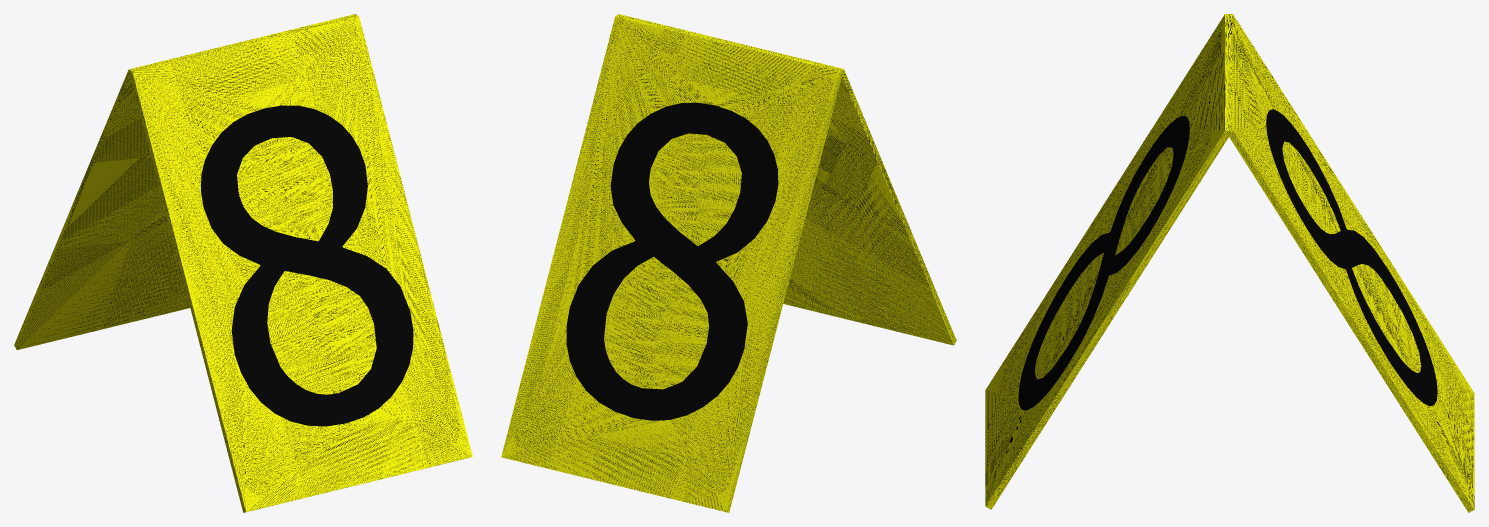
Rendered from H_Eight.dae.
3 renders of one model, left to right at view 1: azimuth 30°, elevation 25°; view 2: azimuth 150°, elevation 25°; view 3: azimuth 270°, elevation 25°, orthographic. The views are drawn at different scales.
Parts seen in each view (by area): view 1: skpDD42 (×4); view 2: skpDD42 (×4); view 3: skpDD42 (×7).
Part boxes in pixels (x1=…): skpDD42 (×4): x1=14, y1=14, x2=472, y2=512; skpDD42 (×4): x1=501, y1=14, x2=956, y2=512; skpDD42 (×7): x1=985, y1=14, x2=1474, y2=512.
Size of the model in its own units: 4 by 7.09 by 6.11.
